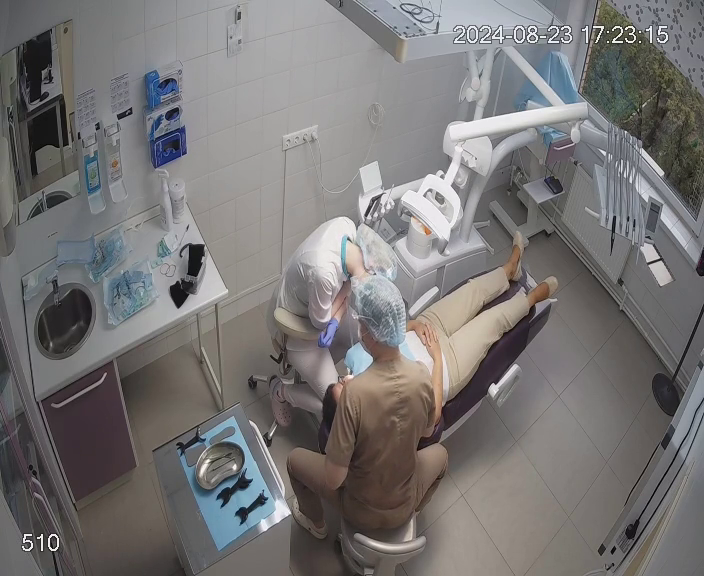Patient: (319, 230, 559, 439)
